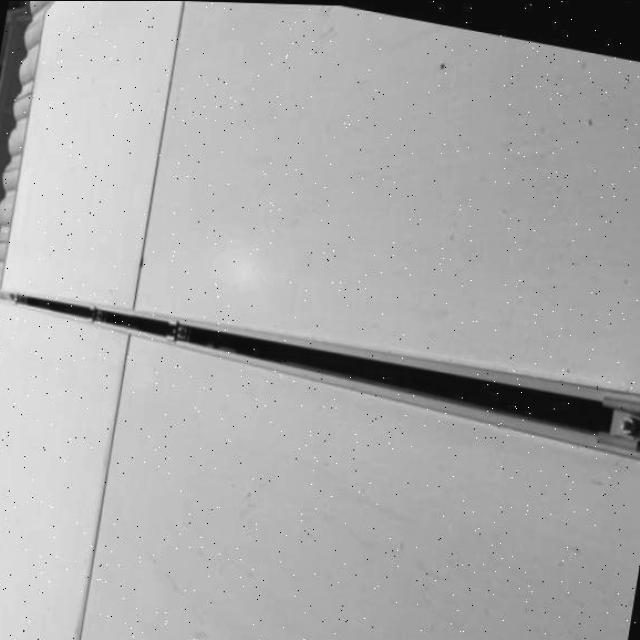Anomaly Solar Panel: (128, 0, 640, 396), (81, 327, 640, 640), (3, 0, 179, 312), (0, 299, 129, 640)
Surface Contaminant: (132, 0, 640, 393), (76, 324, 640, 640), (1, 0, 182, 312), (0, 296, 135, 640)
